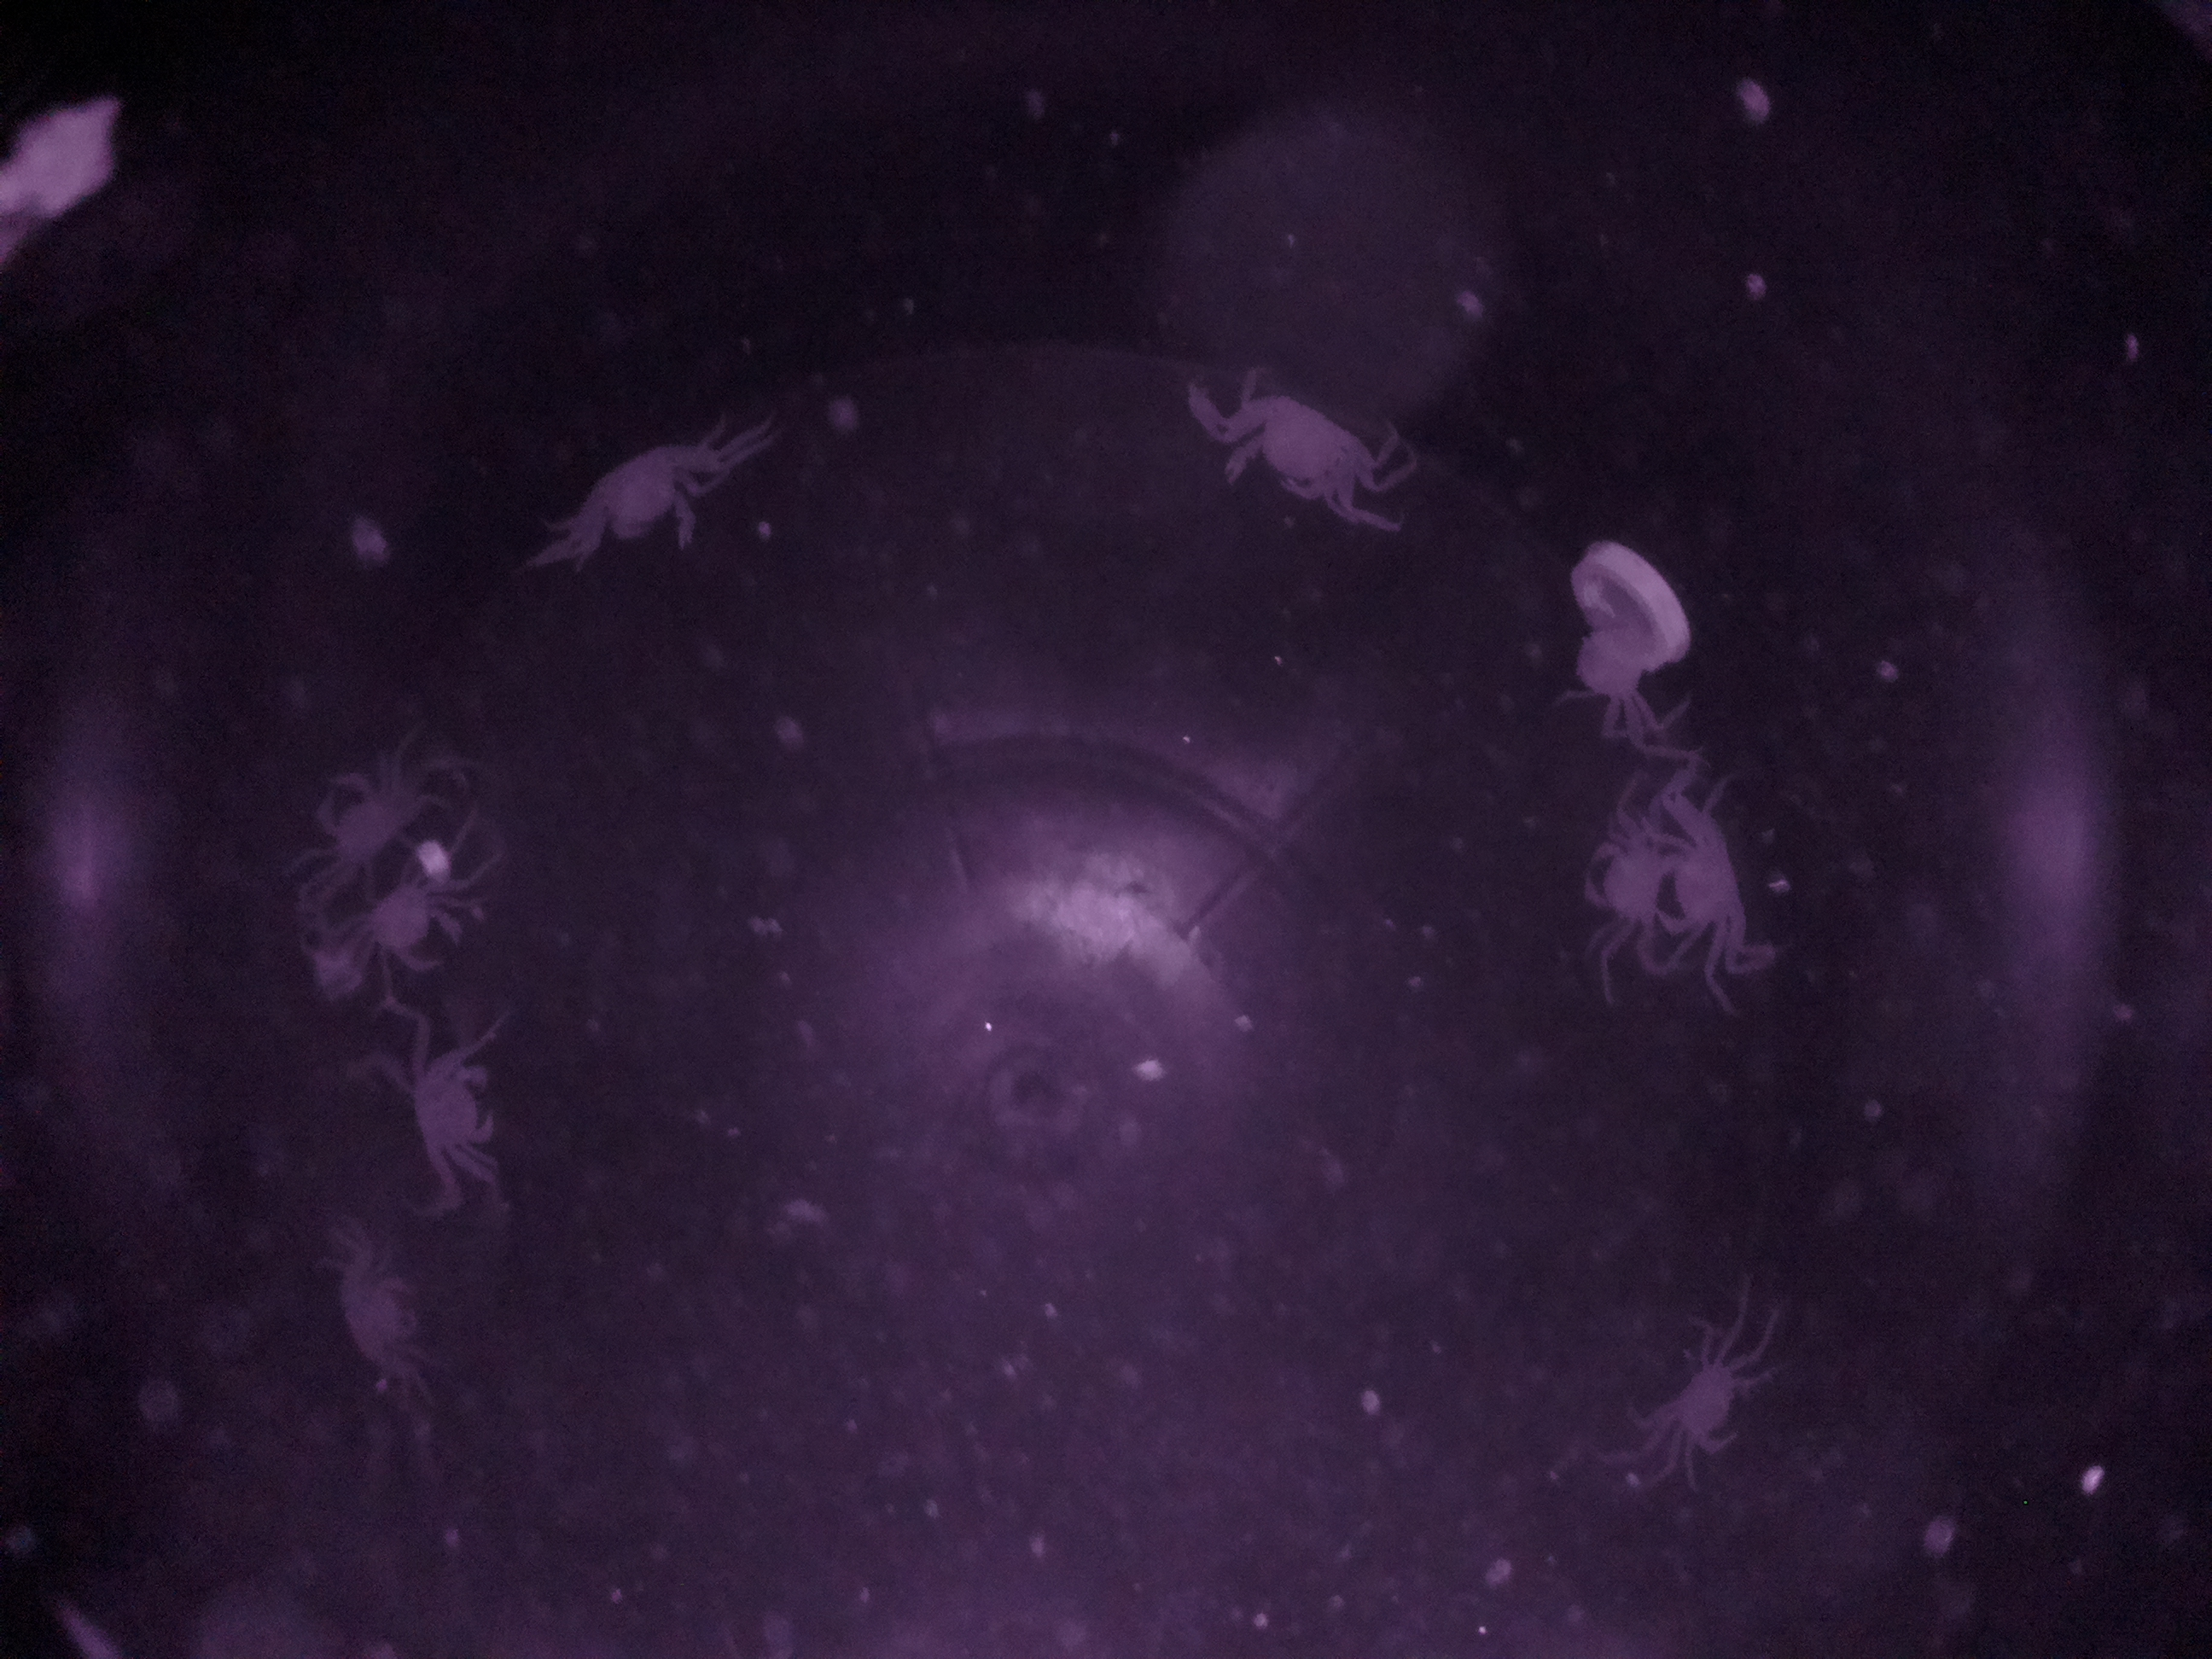Crab: (1186, 349, 1404, 544), (557, 418, 740, 589), (359, 1019, 536, 1178), (1634, 1316, 1782, 1476), (1660, 793, 1784, 971), (336, 849, 470, 995), (280, 741, 421, 873)
